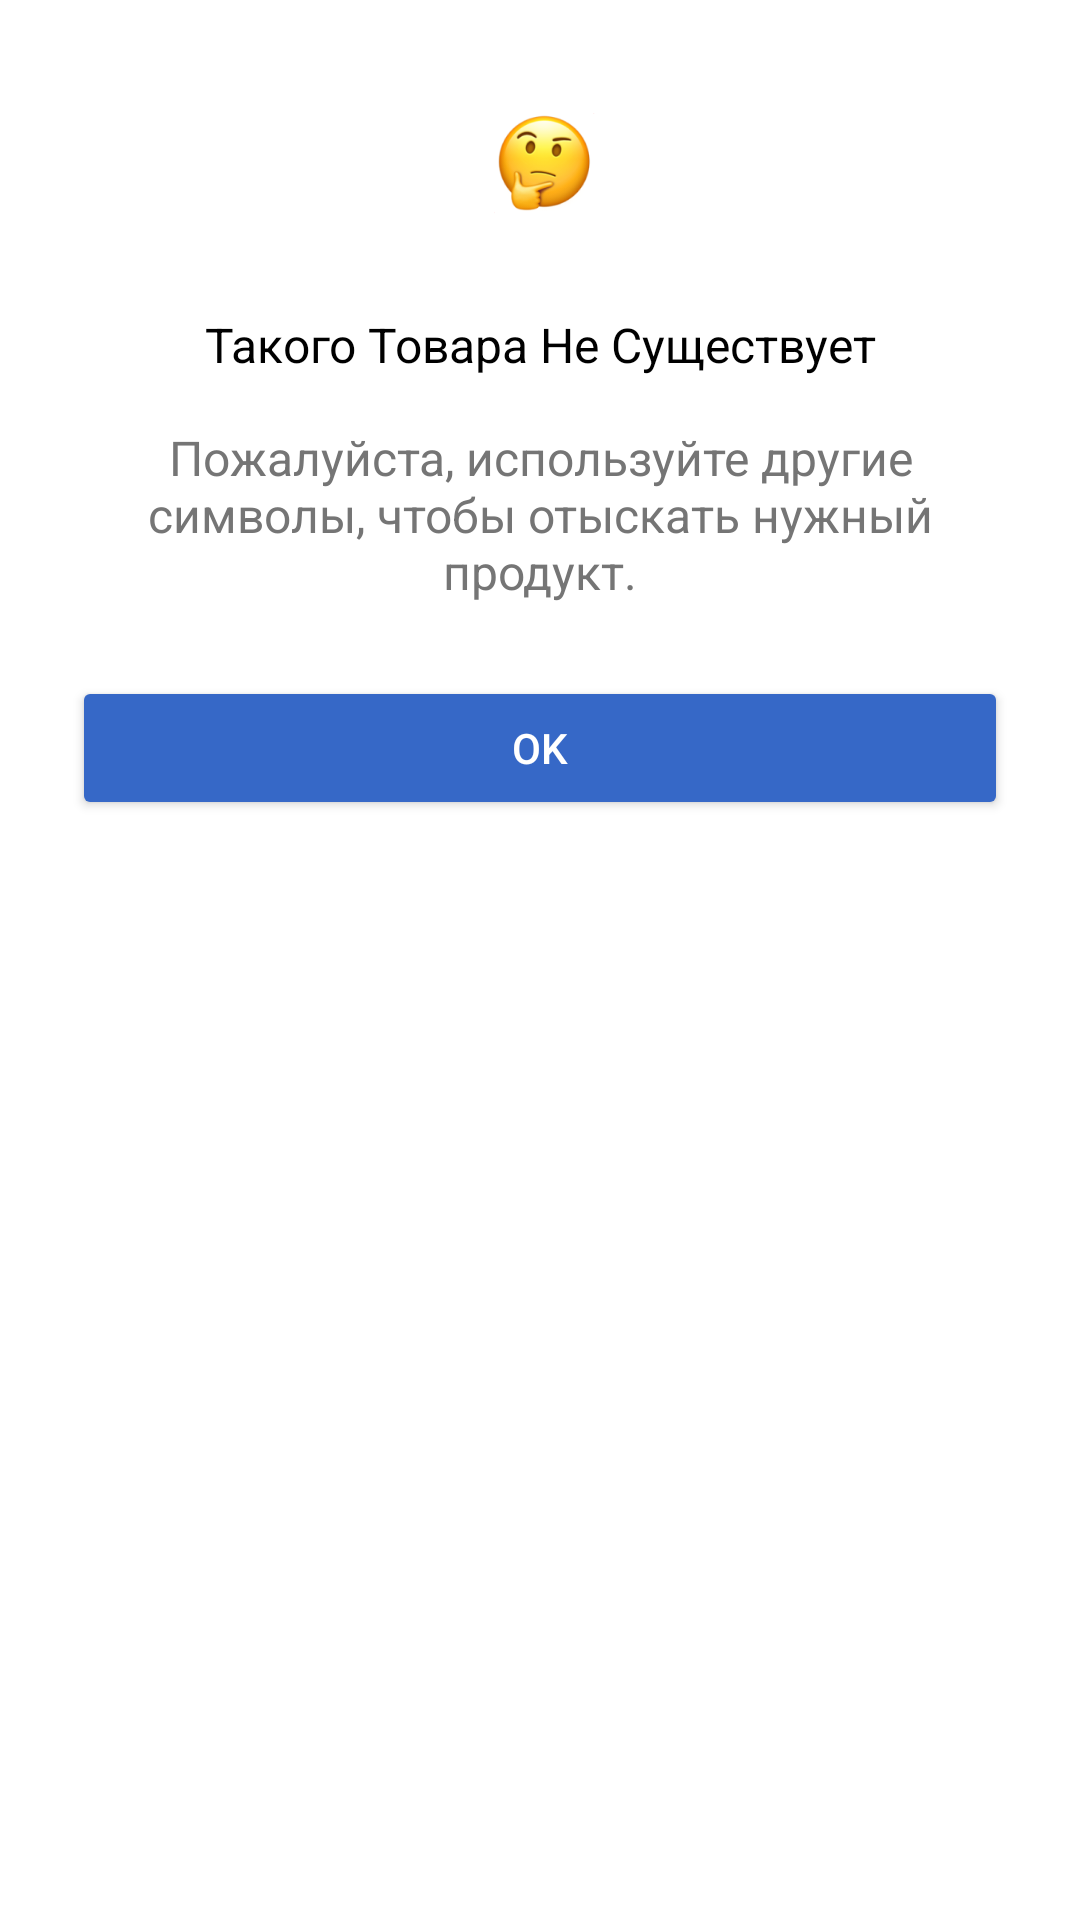

Where to tap for icons on this 1080 × 1920 app screen, as point (x, y):
Search error: point (544, 163)
